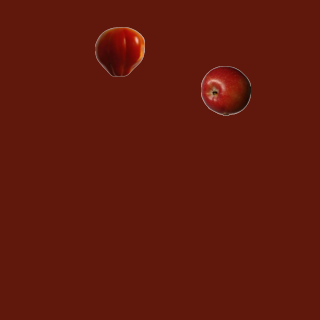Apple Braeburn: (200, 65, 250, 115)
Tomato 1: (94, 26, 144, 76)
